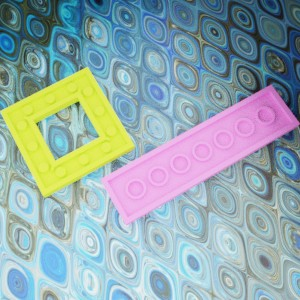lego: (100, 84, 299, 225), (0, 66, 134, 197)
